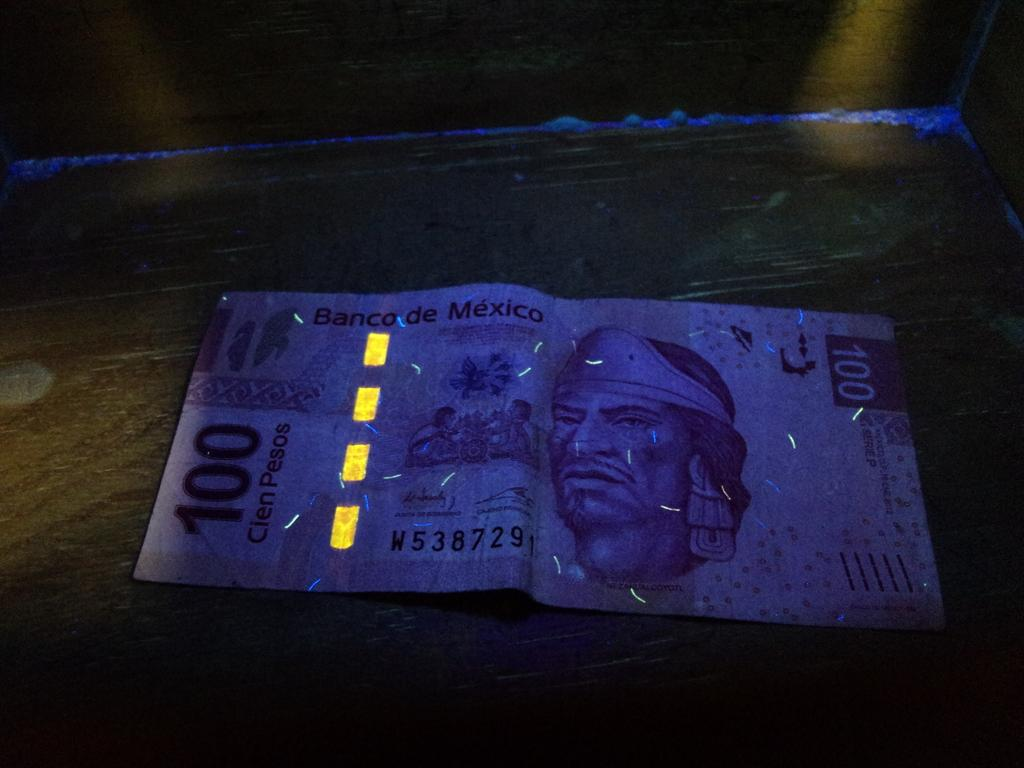Sem Máscara: (541, 387, 668, 530)
